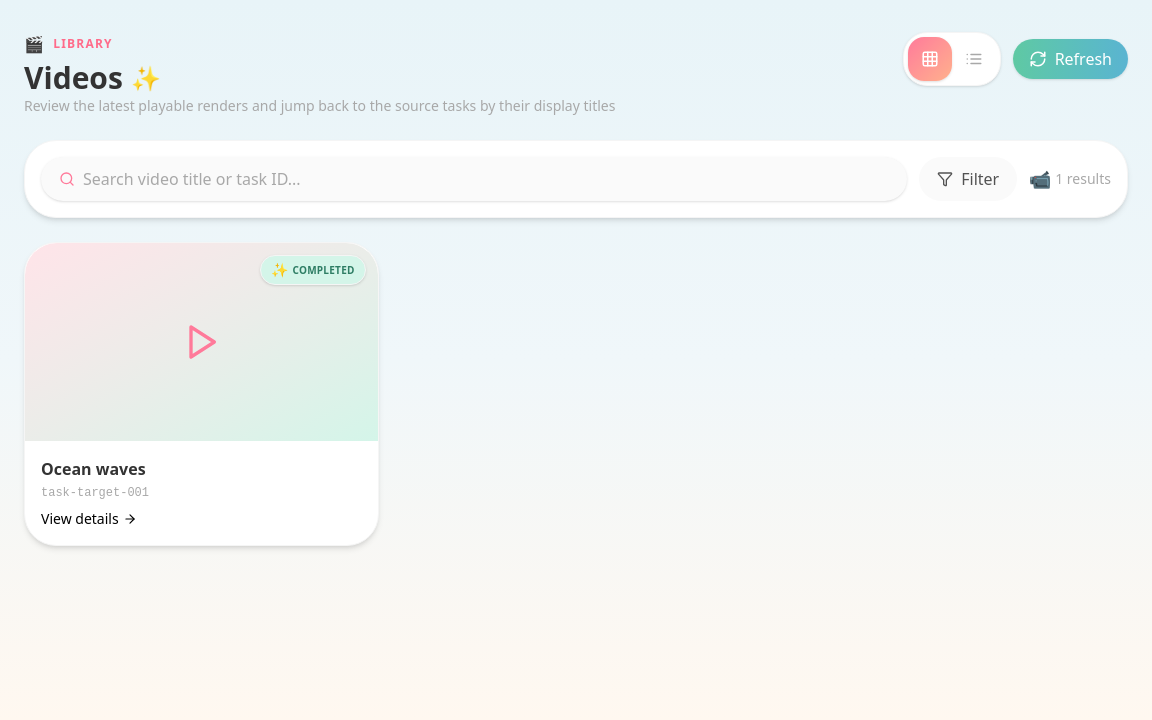
Test: videos filter controls follow the active locale
The width and height of the screenshot is (1152, 720).
Expected: the heading "Ocean waves" is shown, [41, 458, 146, 480]
Type "ocean" into the field with placeholder "Search video title or task ID..." at (486, 179), box [83, 167, 889, 191]
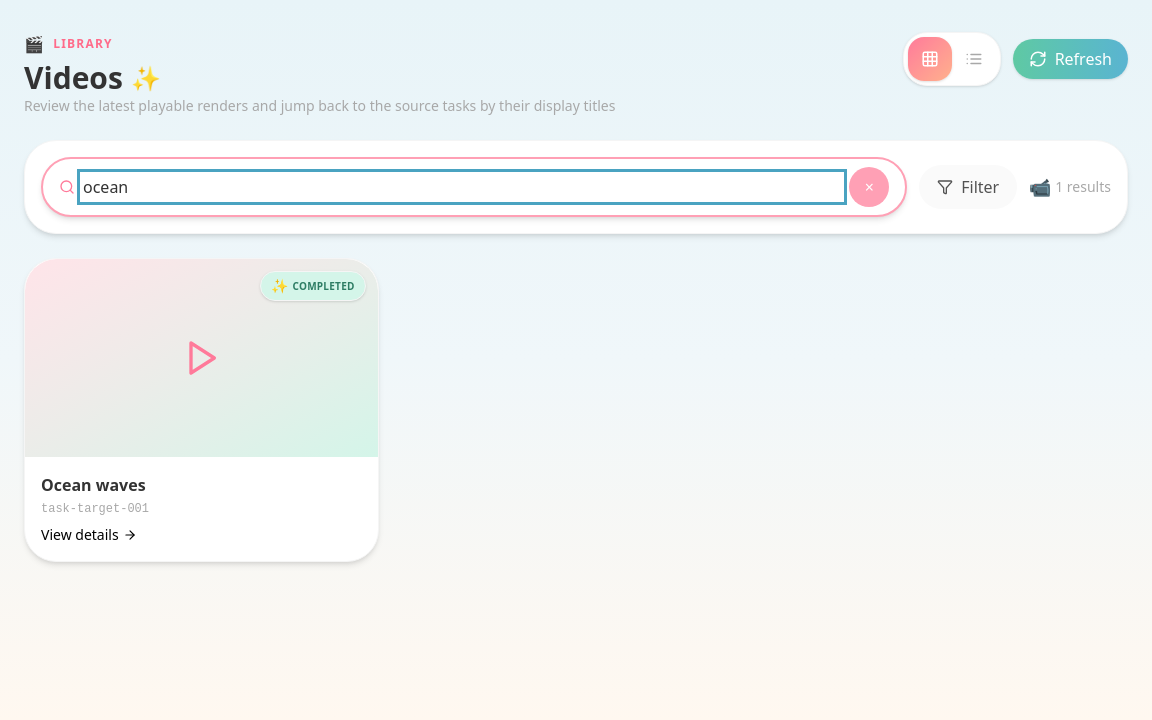
Expected: the button named "clear search" is shown, [849, 167, 889, 207]
Click the button "Filter" at (968, 187), box [919, 165, 1017, 209]
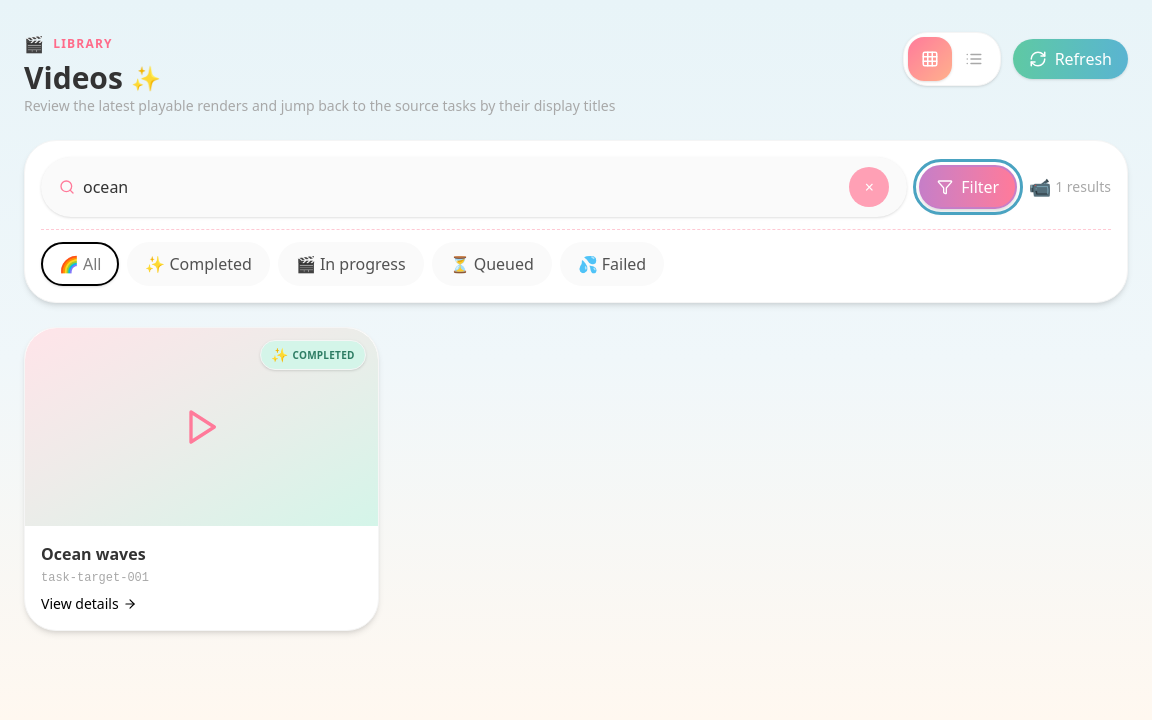
Expected: the button "🌈 All" is shown, [41, 242, 120, 286]
Expected: the button "✨ Completed" is shown, [128, 242, 270, 286]
Expected: the button "🎬 In progress" is shown, [278, 242, 424, 286]
